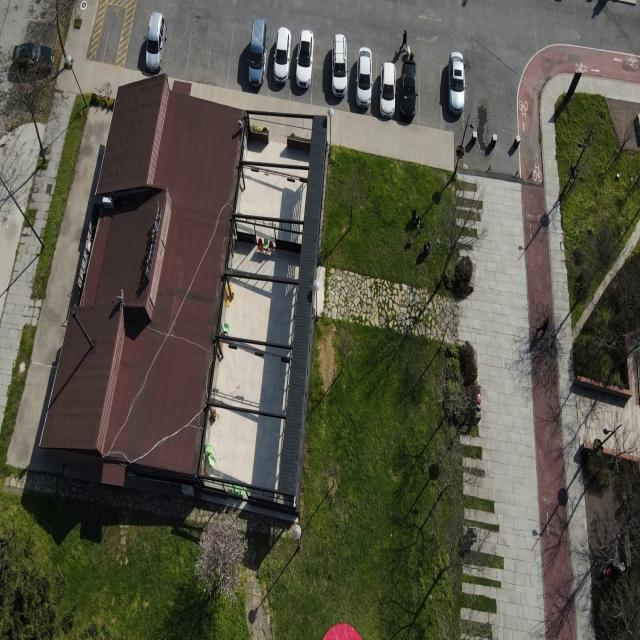vehicle: (247, 17, 267, 86), (13, 41, 54, 72), (145, 11, 166, 71), (400, 56, 418, 120), (448, 50, 466, 114), (296, 28, 314, 88), (273, 26, 291, 84), (356, 46, 372, 110), (332, 32, 348, 96), (380, 61, 396, 118), (322, 623, 364, 640), (400, 30, 408, 49), (412, 210, 420, 227), (423, 242, 430, 255), (410, 51, 414, 60)
